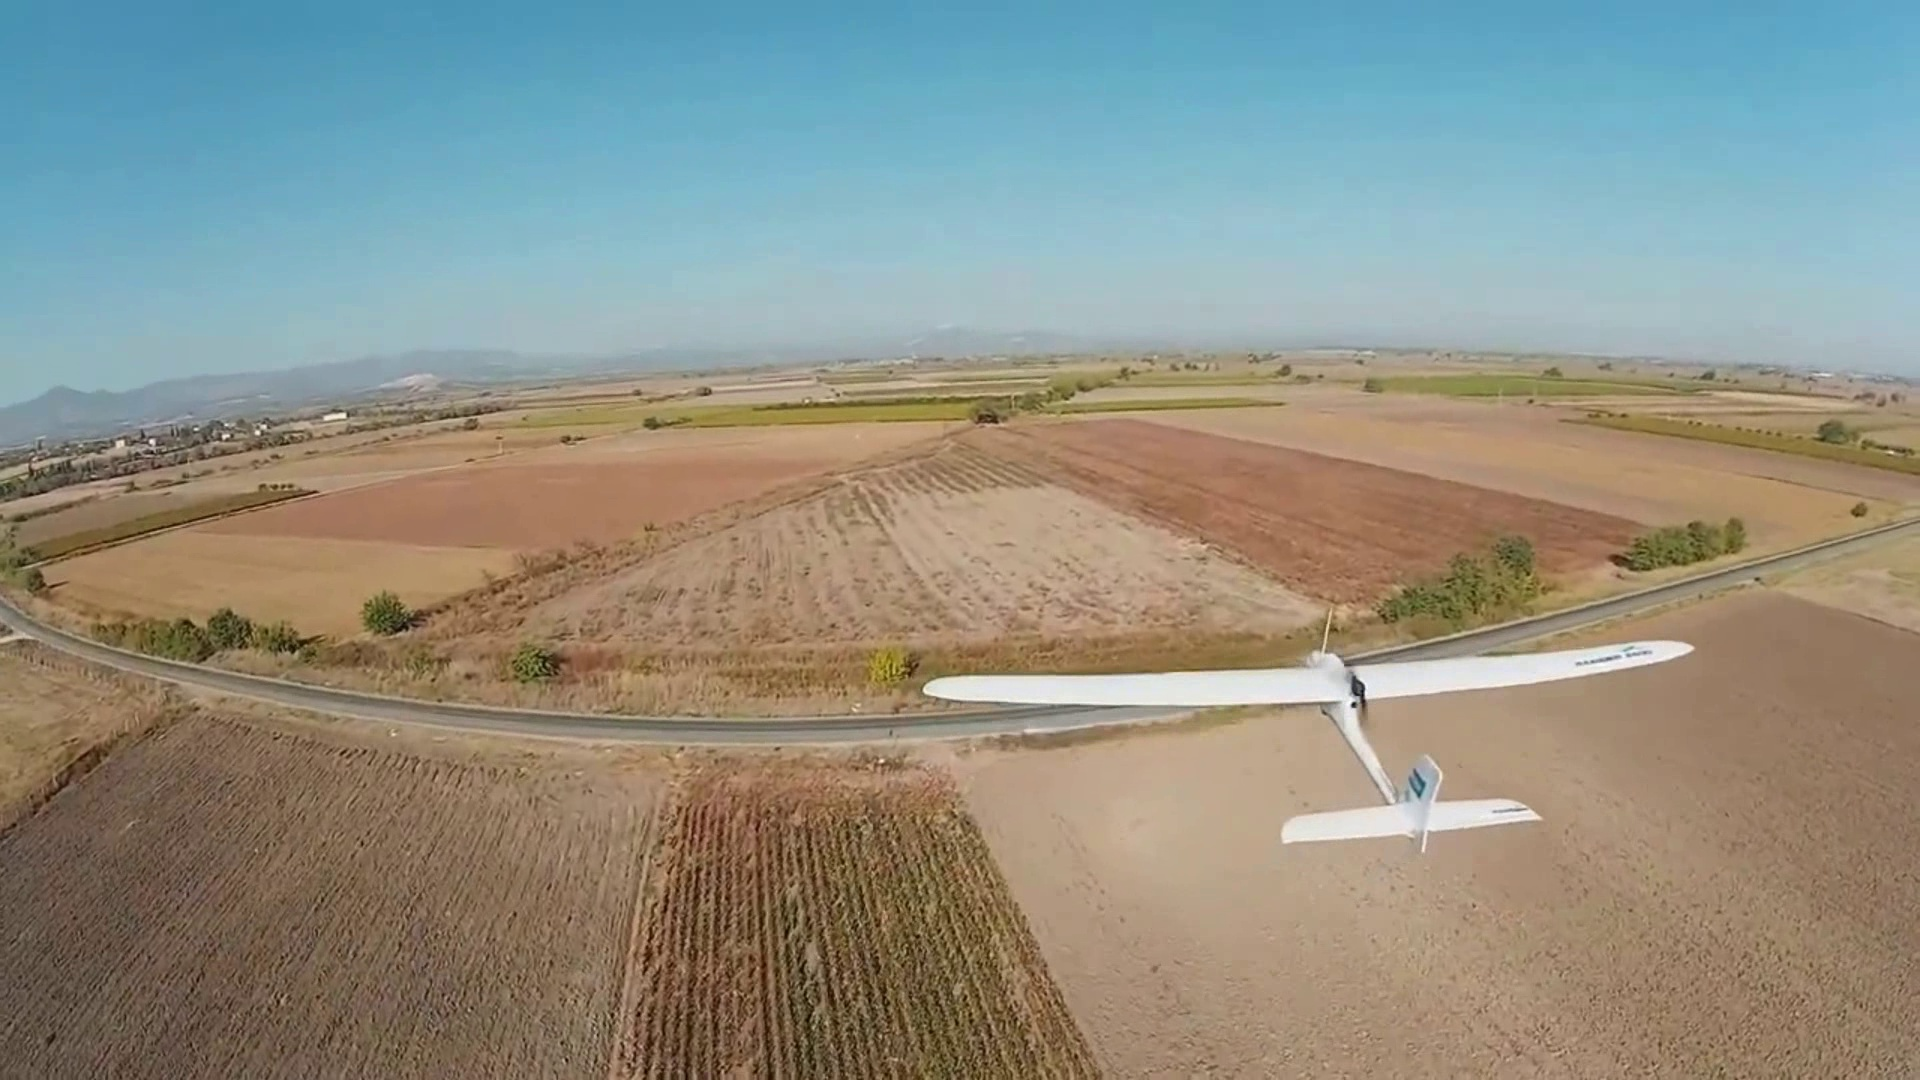airplane: (916, 502, 1915, 843), (918, 636, 1697, 843)
